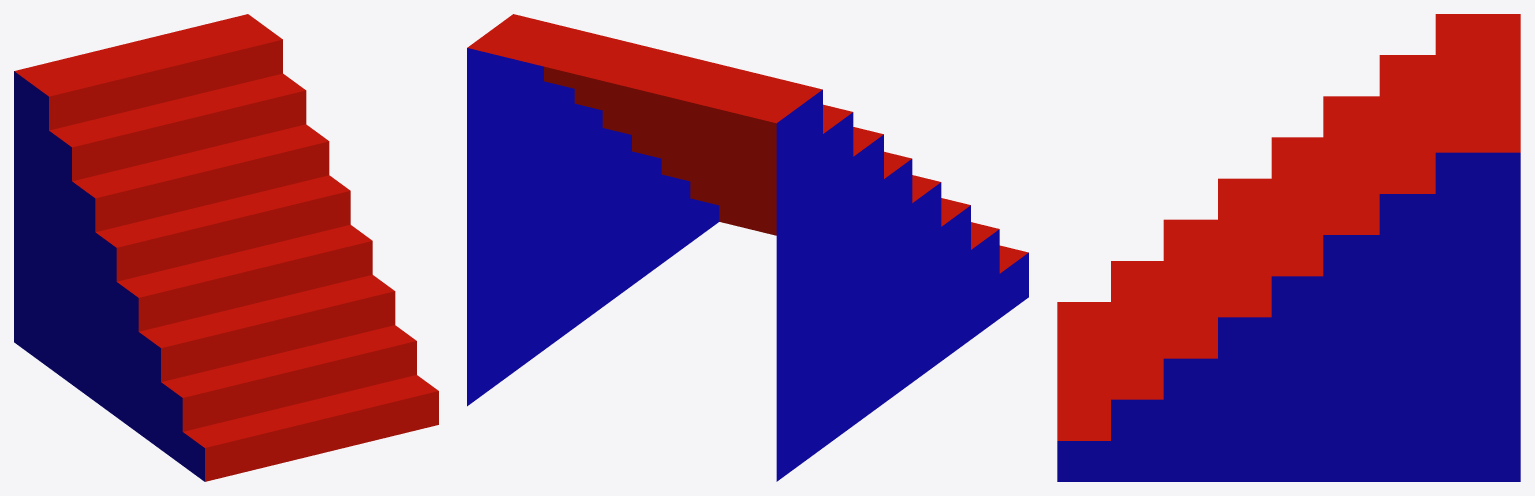
The model's file is Tangga.fbx.
The picture shows the model from 3 angles, left to right: view 1: azimuth 30°, elevation 25°; view 2: azimuth 150°, elevation 25°; view 3: azimuth 270°, elevation 25°; orthographic projection. The views are drawn at different scales.
Parts seen in each view (by area): view 1: tangga; view 2: tangga; view 3: tangga.
Boxes of the visible parts, box(x1,y1,x2,y2) form: tangga: box(14, 14, 438, 481); tangga: box(467, 14, 1028, 481); tangga: box(1057, 14, 1520, 481).
Size of the model in its own units: 108 by 119 by 152.
